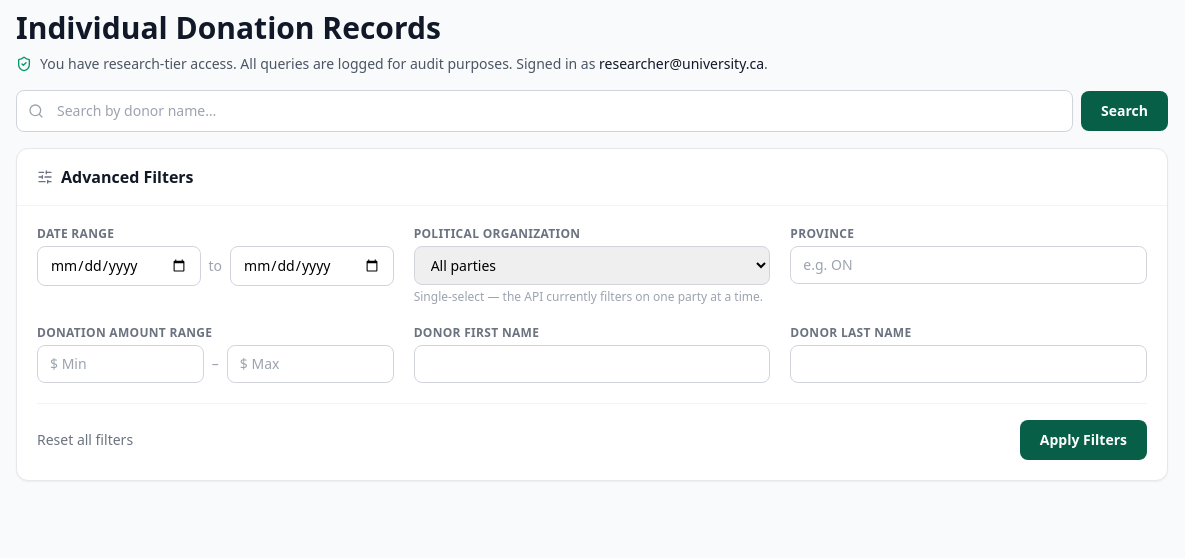
Test: ResearcherDashboardPage — advanced filter validation › blocks submission and shows a banner when required fields are empty
Expected: the text "researcher@university.ca" is shown, [599, 54, 764, 73]
Click the button "Apply Filters" at [1083, 440], box [1020, 420, 1147, 460]
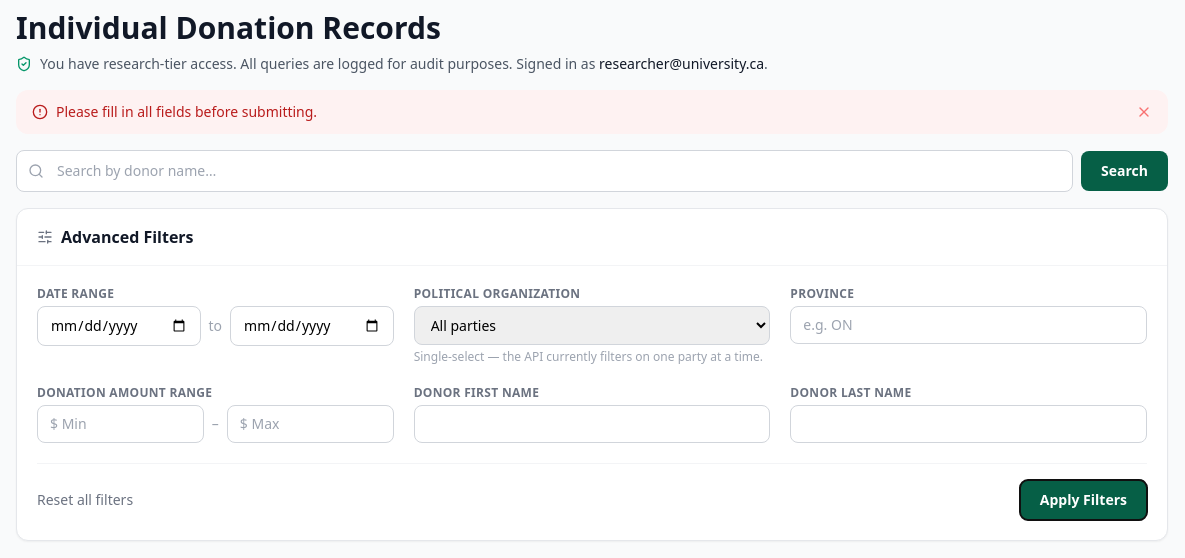
Expected: the text "Please fill in all fields before submitting." is shown, [56, 102, 317, 122]
